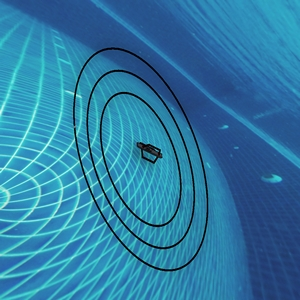circle: (58, 41, 219, 275)
submarine: (137, 145, 164, 161)
